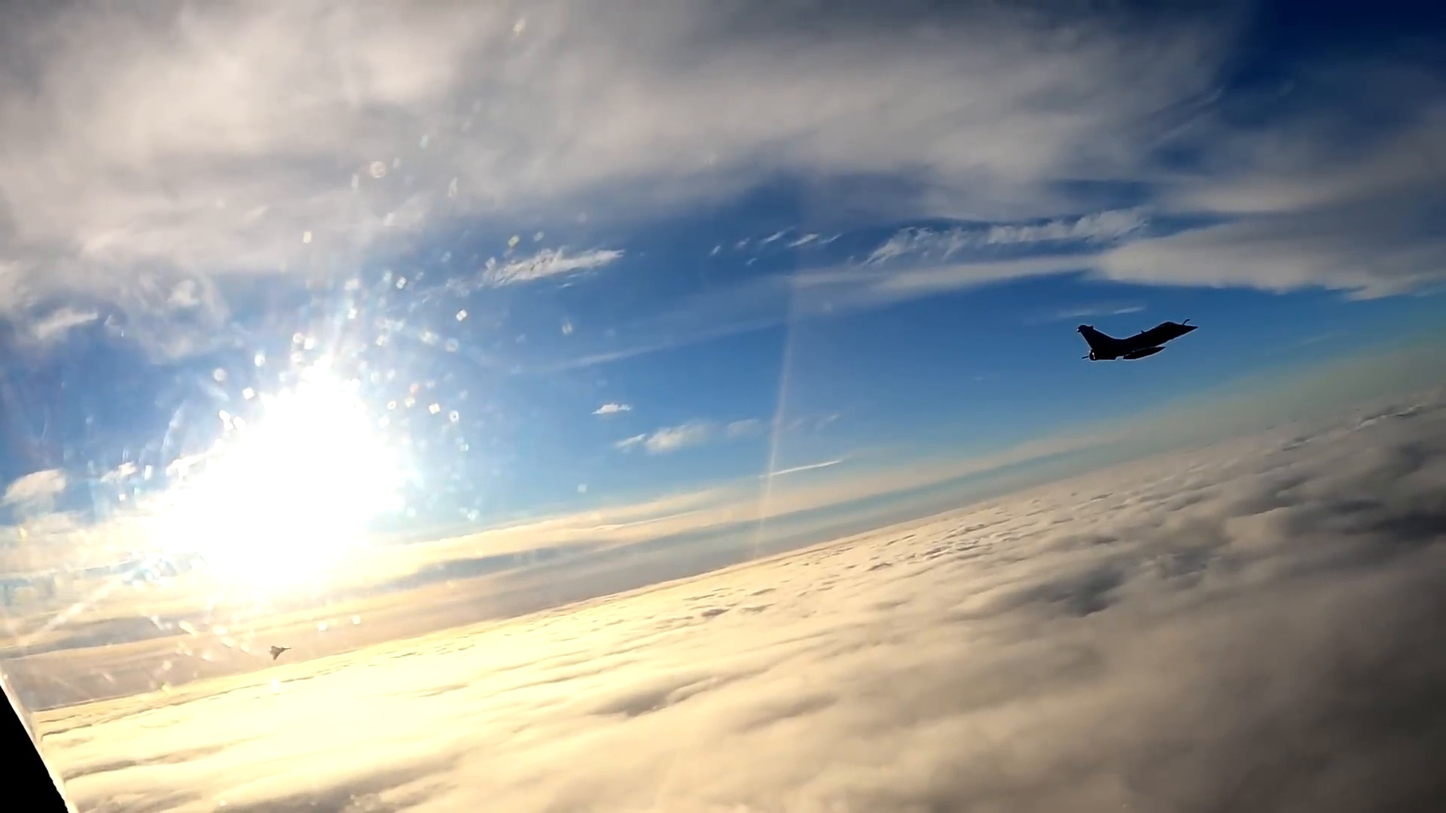Rafale: (1076, 319, 1196, 362)
